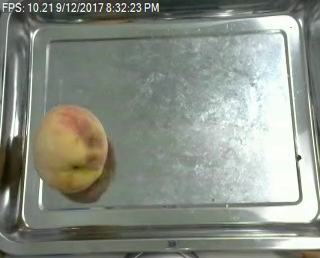Peach: (32, 103, 110, 193)
